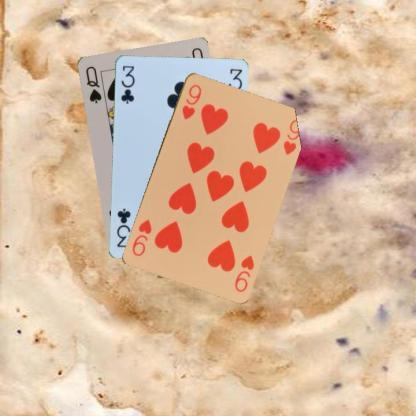3c: (118, 63, 136, 106)
9h: (232, 252, 255, 293), (180, 81, 202, 121)
Qs: (82, 63, 102, 105)
